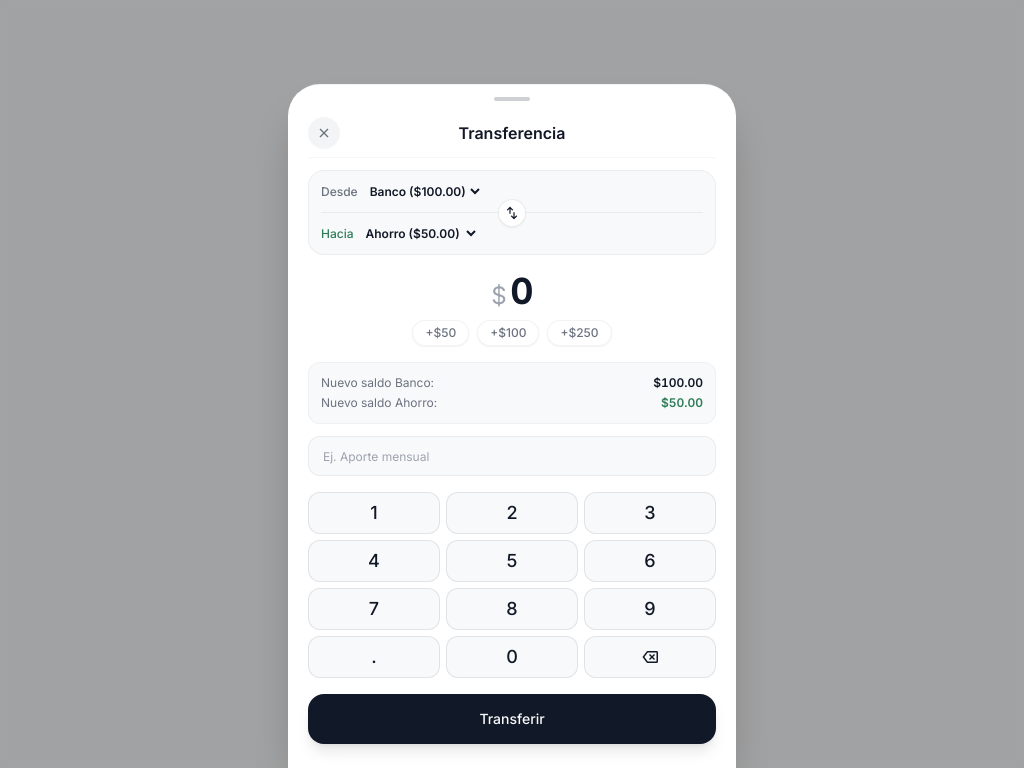
Test case: TransferModal › valida que el monto sea mayor a cero
This screenshot has width=1024, height=768.
Click the button "Transferir" at (512, 719), box [308, 694, 716, 744]
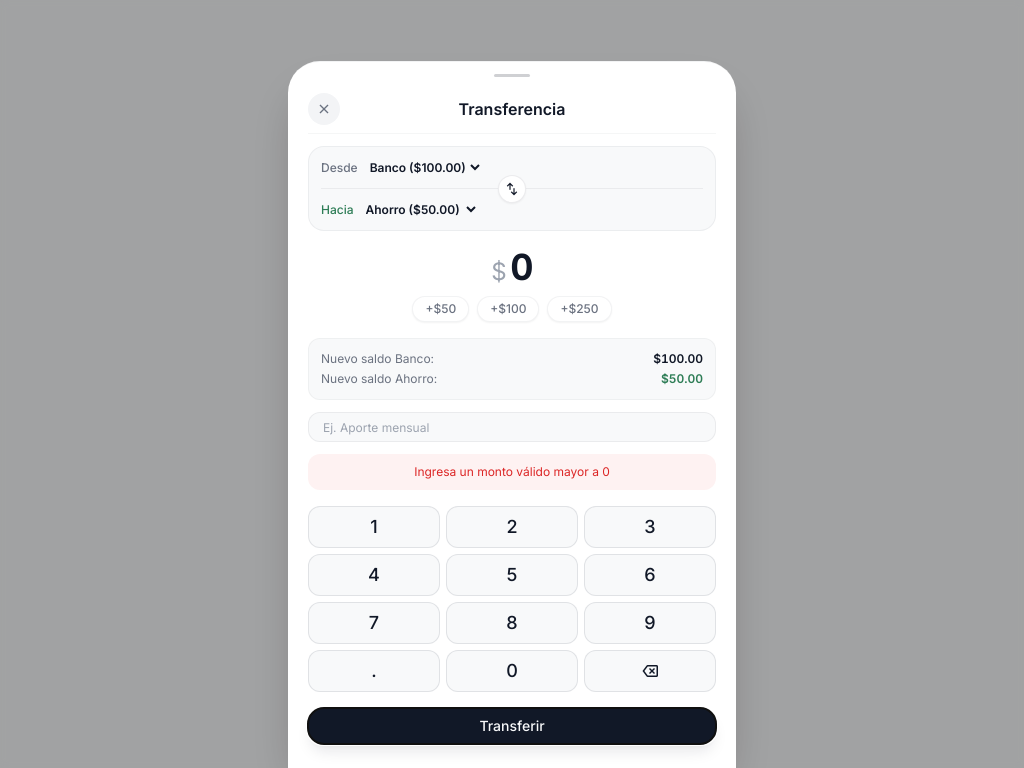
Now the text "Ingresa un monto válido mayor a 0" is shown, box [308, 454, 716, 490]
